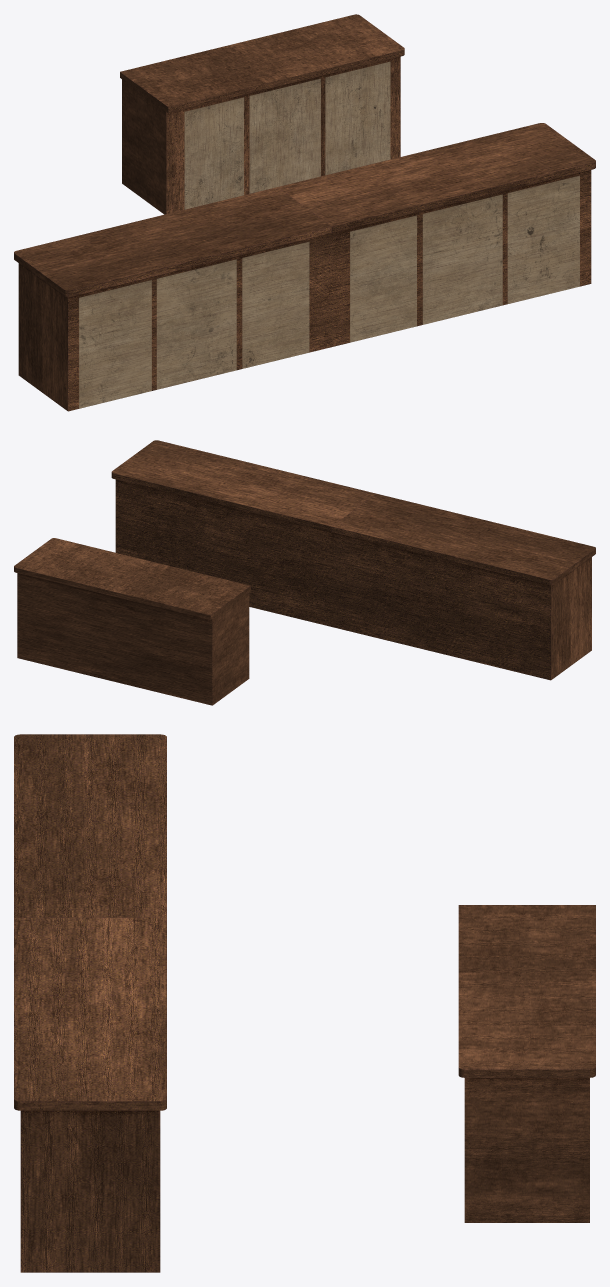
File: finalbarcabinets.fbx
3 renders of one model, top to bottom at view 1: azimuth 30°, elevation 25°; view 2: azimuth 150°, elevation 25°; view 3: azimuth 270°, elevation 25°, orthographic. The views are drawn at different scales.
Visible parts, largest first — view 1: bar_stand, bar_cabinate; view 2: bar_stand, bar_cabinate; view 3: bar_stand, bar_cabinate.
Boxes of the visible parts, x1,y1,x2,y2 form: bar_stand: (14, 123, 595, 411); bar_cabinate: (120, 14, 404, 214); bar_stand: (111, 440, 595, 680); bar_cabinate: (14, 538, 250, 705); bar_stand: (14, 734, 166, 1272); bar_cabinate: (458, 905, 595, 1222).
Bounding box in the file's own units: 430 × 99.6 × 288.
Materials: 2 (2 with a texture image).
